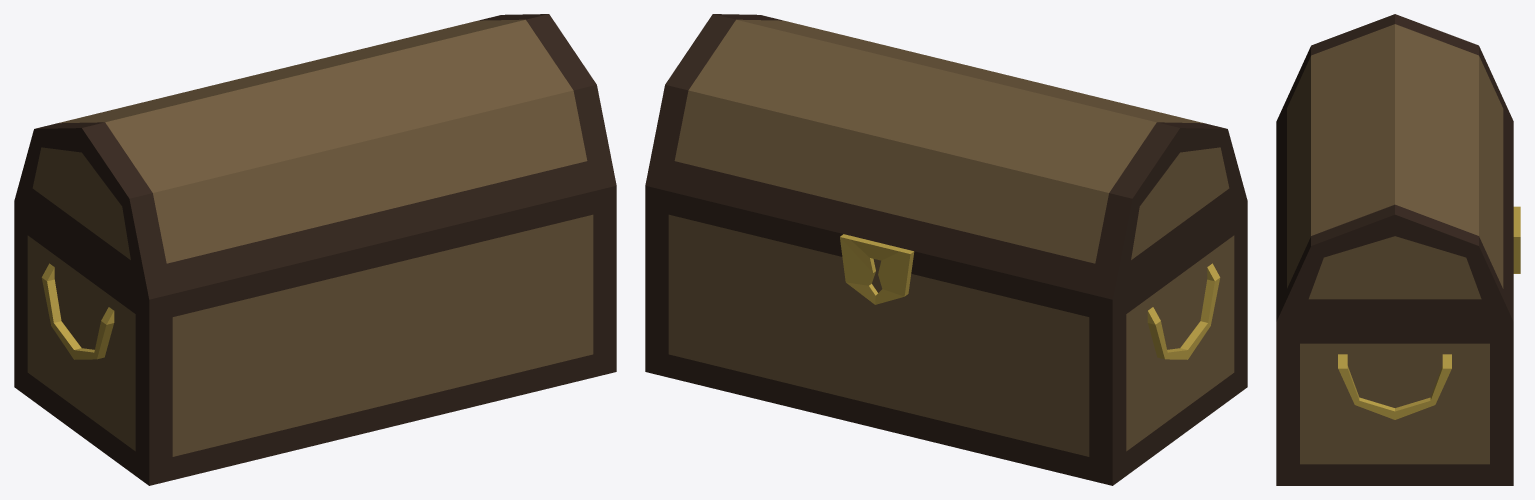
File: island_chest.fbx
3 renders of one model, left to right at view 1: azimuth 30°, elevation 25°; view 2: azimuth 150°, elevation 25°; view 3: azimuth 270°, elevation 25°, orthographic. The views are drawn at different scales.
Visible parts, largest first — view 1: Cylinder.009, Cylinder.006; view 2: Cylinder.009, Cylinder.006; view 3: Cylinder.006, Cylinder.009.
Boxes of the visible parts, left/top/right/bottom form: Cylinder.009: left=14, top=185, right=616, bottom=485; Cylinder.006: left=14, top=14, right=616, bottom=299; Cylinder.009: left=645, top=185, right=1247, bottom=485; Cylinder.006: left=645, top=14, right=1247, bottom=299; Cylinder.006: left=1276, top=14, right=1513, bottom=322; Cylinder.009: left=1276, top=206, right=1520, bottom=485.
Bounding box in the file's own units: 1.65 × 1.01 × 0.823.
